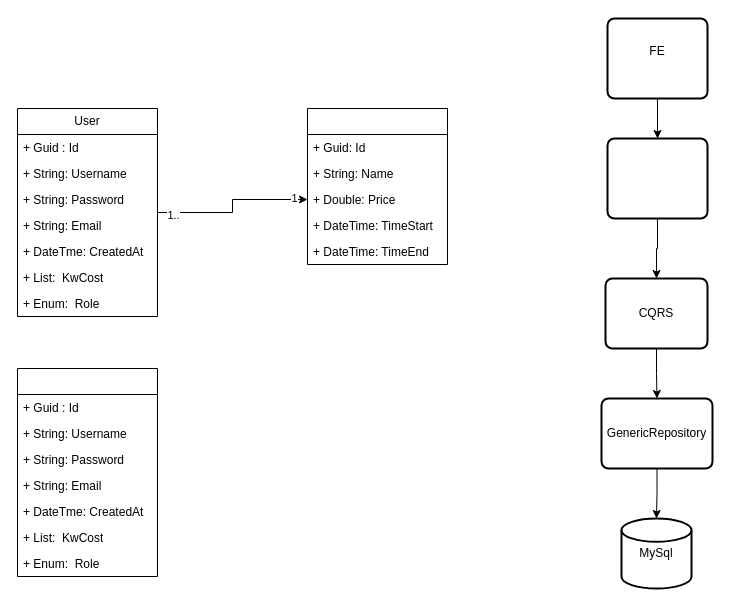
Image size: 731x606. Some labels were removed from this diagram. The box of each missing label's shape, as (x1, y1, x2, y2) in pixels:
Admin: (16, 368, 158, 576)
Controller: (606, 137, 708, 219)
KwCost: (306, 108, 448, 264)
